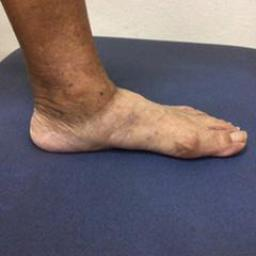Medial View -Left Foot-: (15, 46, 252, 178)
